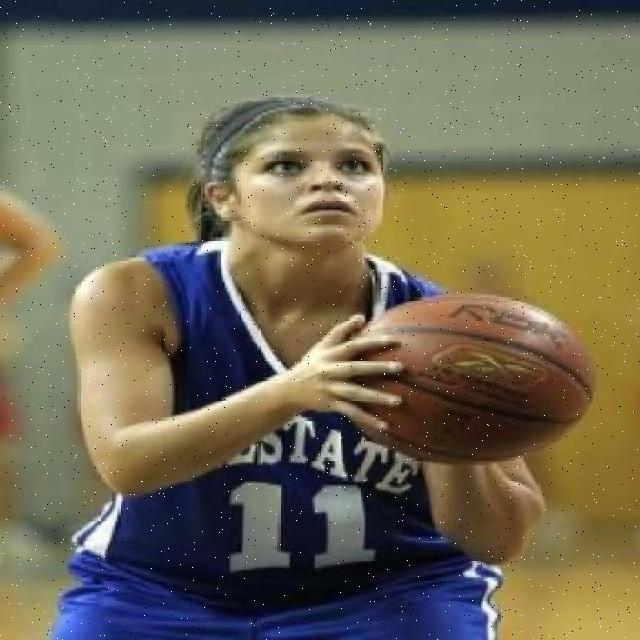ball: (347, 292, 596, 464)
